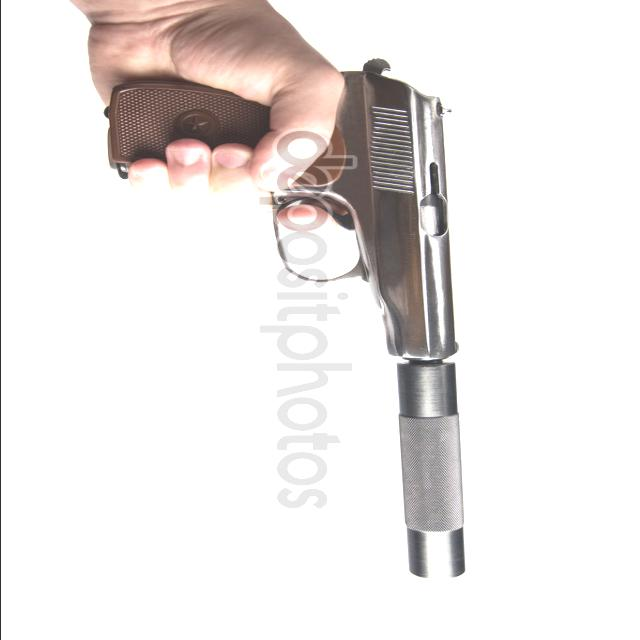handgun: (103, 62, 461, 352)
